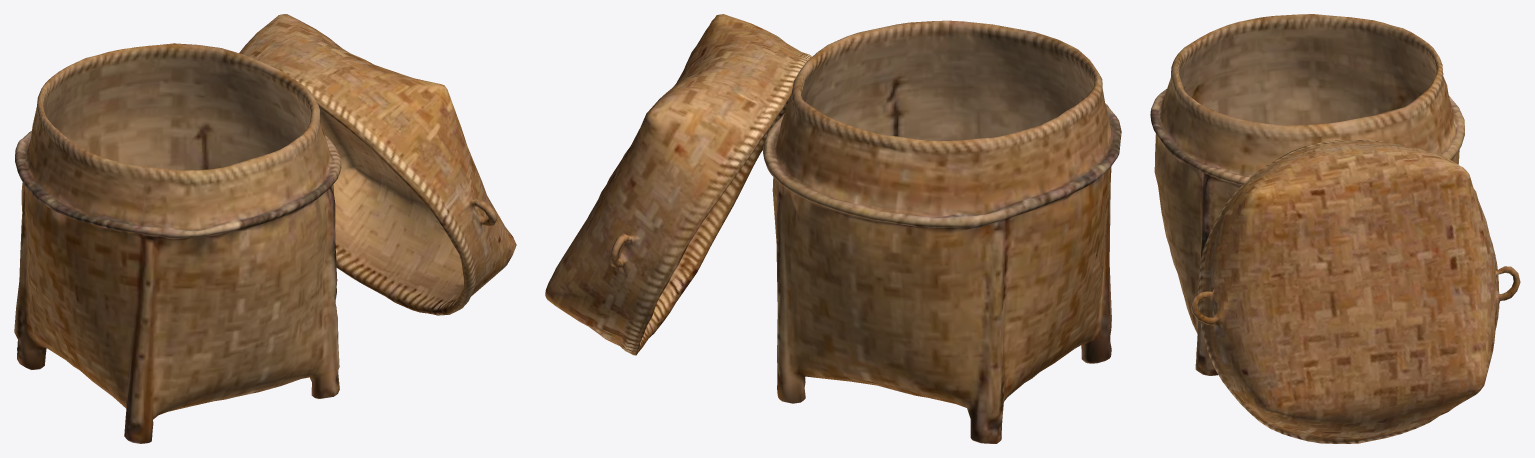
Rendered from basket.glb.
The picture shows the model from 3 angles, left to right: view 1: azimuth 30°, elevation 25°; view 2: azimuth 150°, elevation 25°; view 3: azimuth 270°, elevation 25°; orthographic projection. The views are drawn at different scales.
Visible parts, largest first — view 1: wicker_basket_02_base, wicker_basket_02_lid; view 2: wicker_basket_02_base, wicker_basket_02_lid; view 3: wicker_basket_02_lid, wicker_basket_02_base.
Boxes of the visible parts, left/top/right/bottom form: wicker_basket_02_base: left=14, top=43, right=341, bottom=443; wicker_basket_02_lid: left=239, top=14, right=516, bottom=315; wicker_basket_02_base: left=763, top=20, right=1121, bottom=443; wicker_basket_02_lid: left=545, top=14, right=812, bottom=355; wicker_basket_02_lid: left=1190, top=140, right=1520, bottom=443; wicker_basket_02_base: left=1150, top=14, right=1464, bottom=375.
Size of the model in its own units: 0.3469 by 0.2005 by 0.2544.
1 material, 1 textured.
